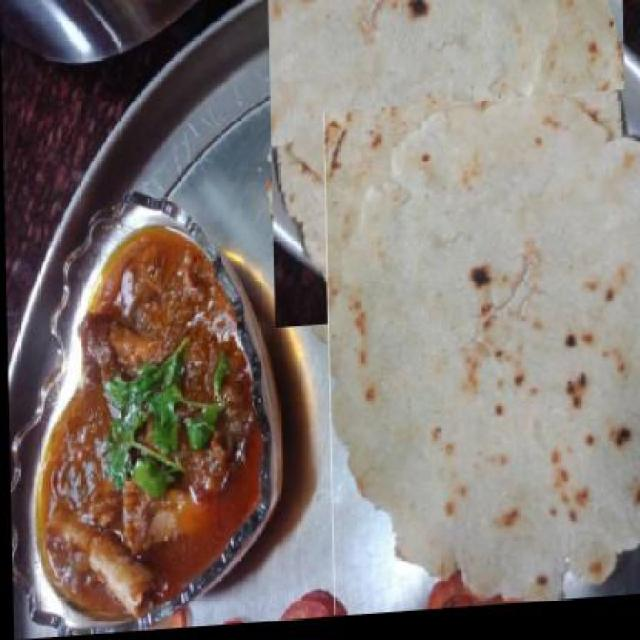chapati: (322, 99, 638, 622), (266, 0, 629, 334)
